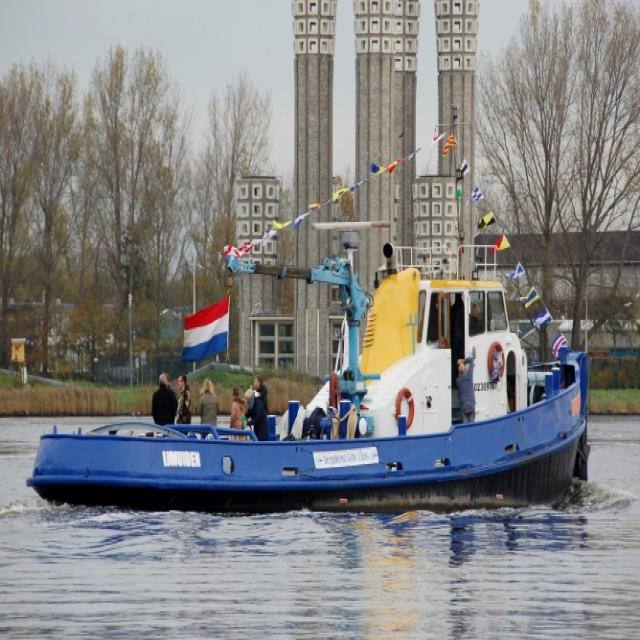tugboat: (20, 210, 601, 530)
